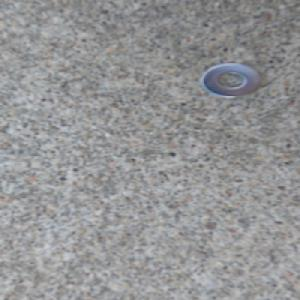Washer: (197, 61, 265, 100)
